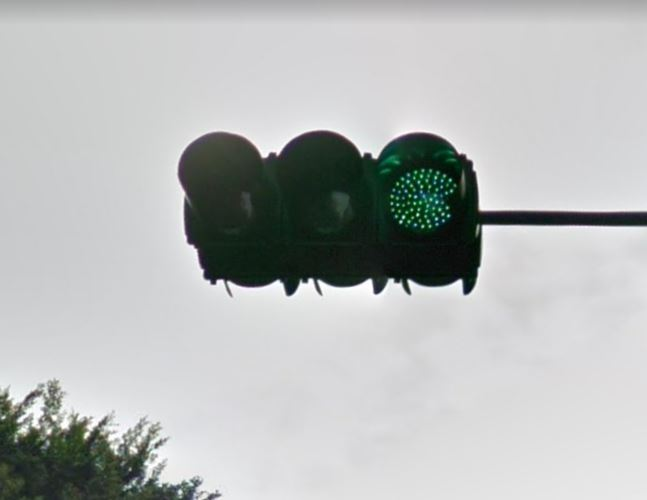Traffic_light_green: (172, 129, 488, 302)
